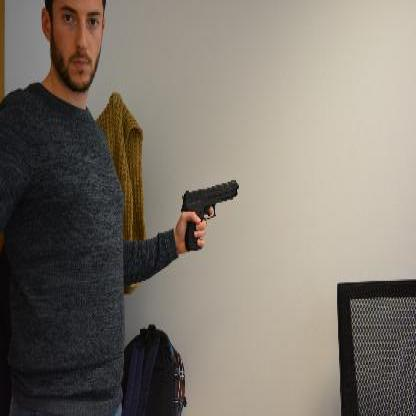pistol: (180, 178, 238, 250)
